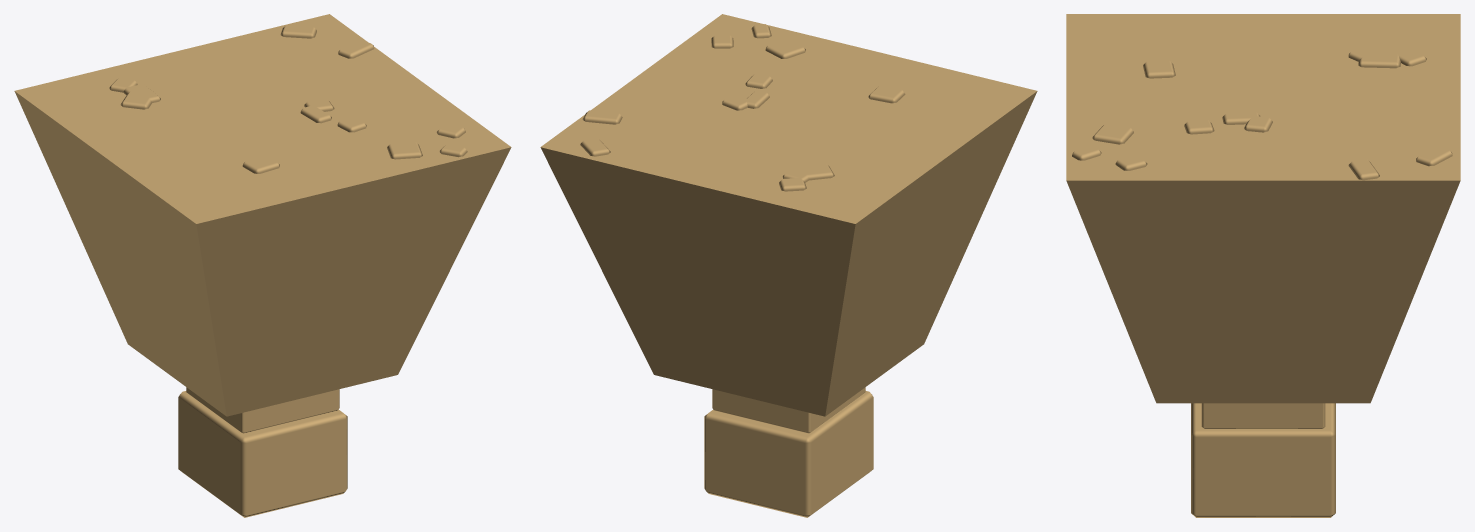
The model's file is HopperSand3.glb.
The picture shows the model from 3 angles, left to right: view 1: azimuth 30°, elevation 25°; view 2: azimuth 150°, elevation 25°; view 3: azimuth 270°, elevation 25°; orthographic projection. The views are drawn at different scales.
Visible parts, largest first — view 1: HopperSand3.001; view 2: HopperSand3.001; view 3: HopperSand3.001.
Part boxes in pixels (x1,y1,x2,y2): HopperSand3.001: (14, 14, 511, 517); HopperSand3.001: (540, 14, 1037, 517); HopperSand3.001: (1066, 14, 1460, 517).
Bounding box in the file's own units: 1.47 × 1.64 × 1.47.
